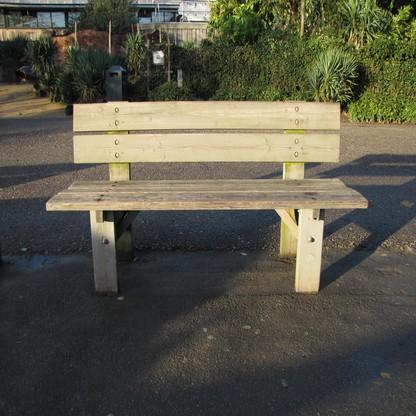obstacle: (44, 100, 375, 301)
